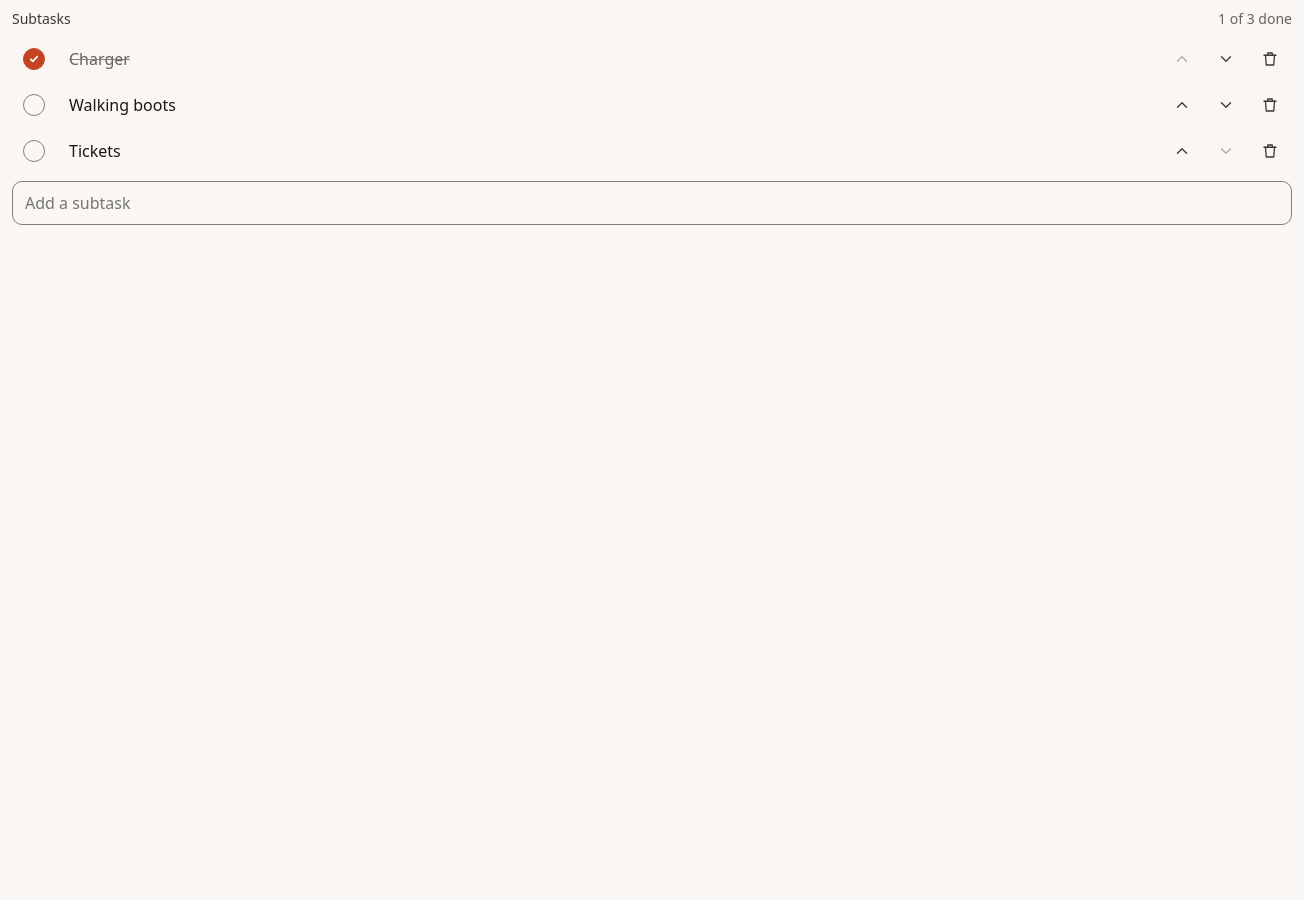
Test: SubtaskList › offers Retry when saving a subtask fails, and rolls the change back
The image size is (1304, 900).
Type "Rain jacket" into the field labelled "Add a subtask" at (652, 203), box left=12, top=181, right=1292, bottom=225
Then press Enter
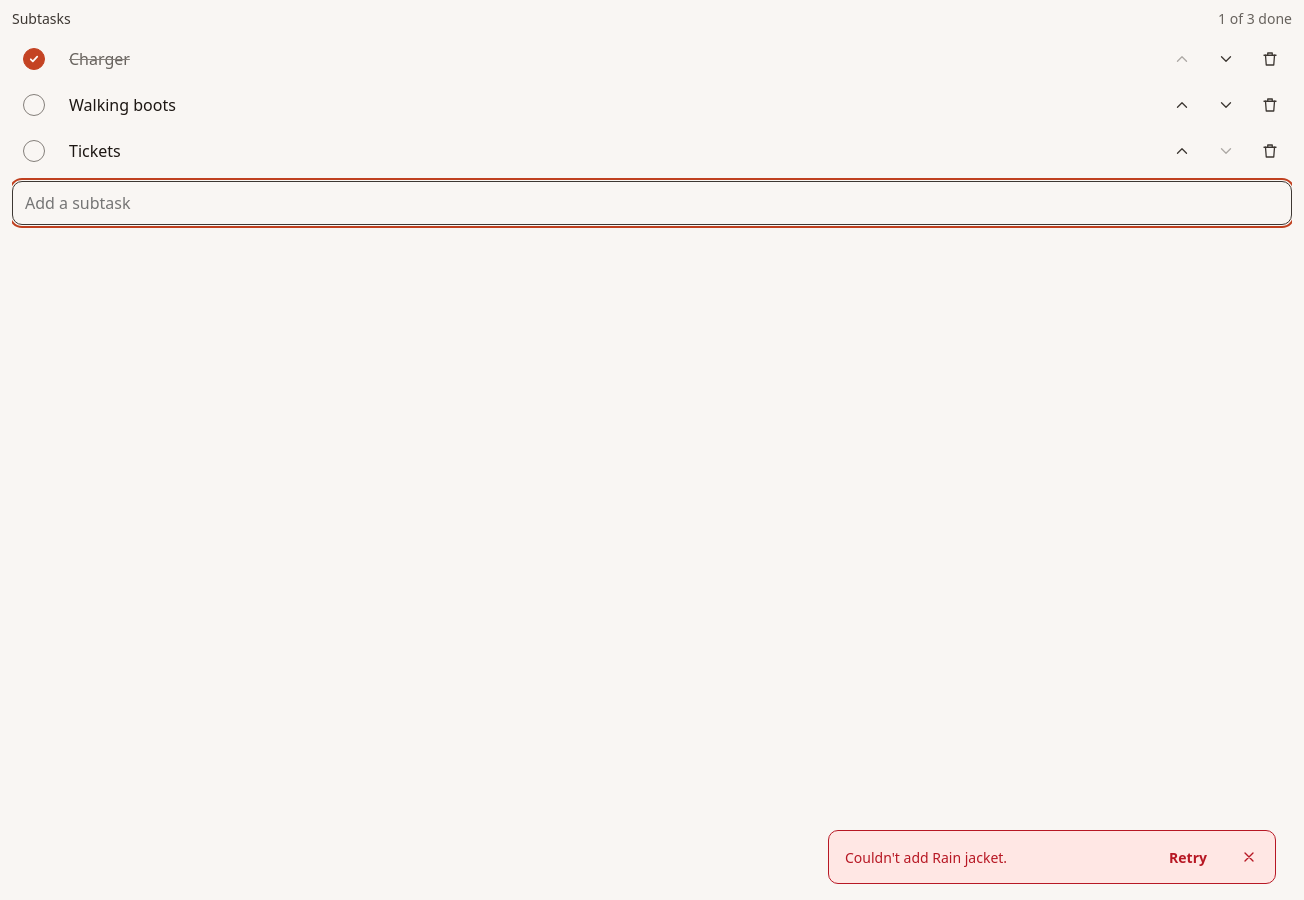
Check: the text "Couldn't add Rain jacket." is shown, box left=845, top=848, right=1007, bottom=866
Check: the button "Retry" is shown, box left=1157, top=835, right=1219, bottom=879
